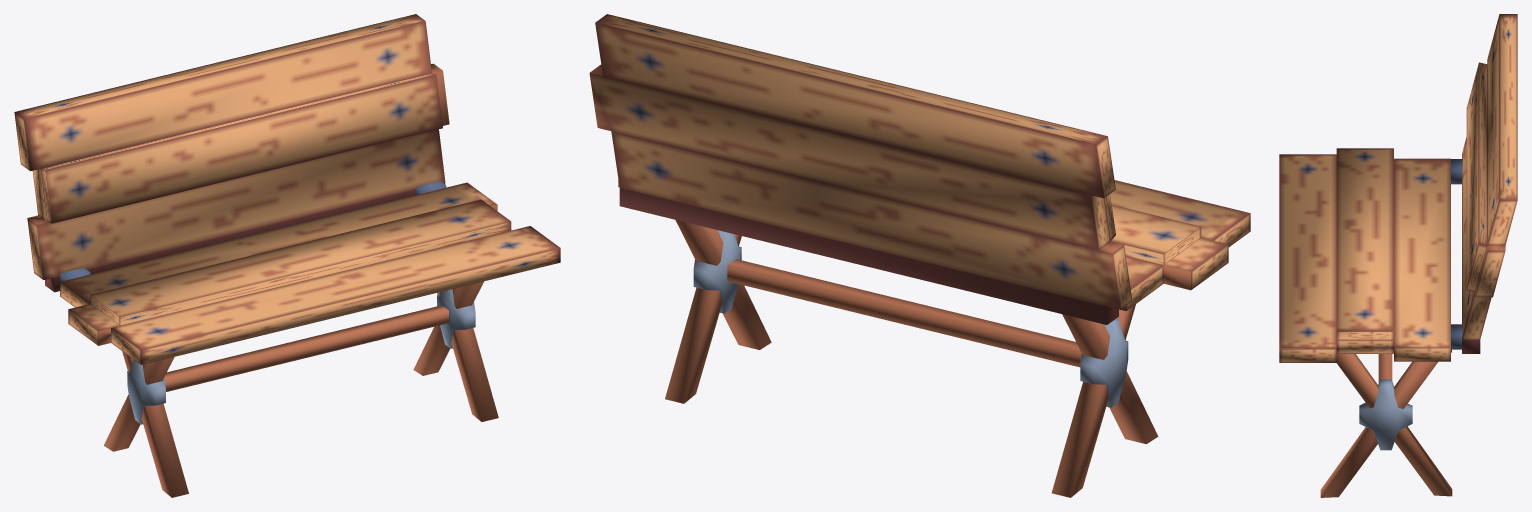
The model's file is Banco2.fbx.
3 views of the same model, side by side, from view 1: azimuth 30°, elevation 25°; view 2: azimuth 150°, elevation 25°; view 3: azimuth 270°, elevation 25° (orthographic). The views are drawn at different scales.
Parts seen in each view (by area): view 1: Banco; view 2: Banco; view 3: Banco.
Part boxes in pixels (box(x1,y1,x2,y2)): Banco: box(14, 14, 560, 497); Banco: box(589, 14, 1250, 497); Banco: box(1279, 14, 1517, 497).
Size of the model in its own units: 141 by 70.95 by 101.
